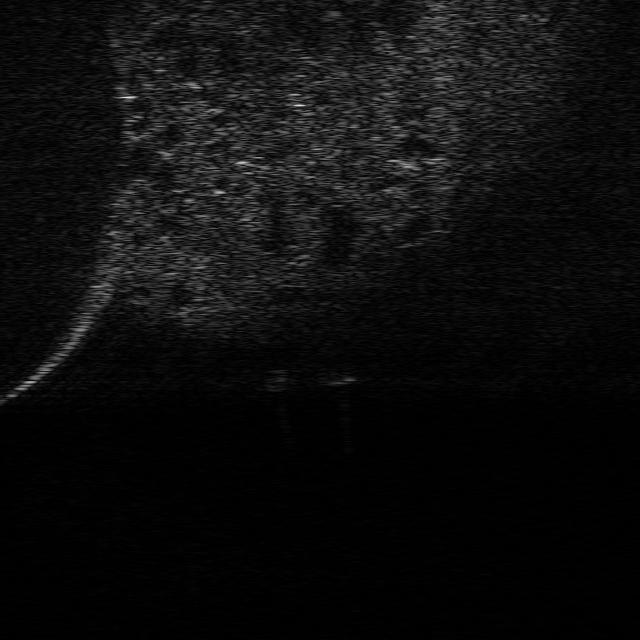cube: (320, 366, 354, 386)
cylinder: (262, 368, 288, 391)
